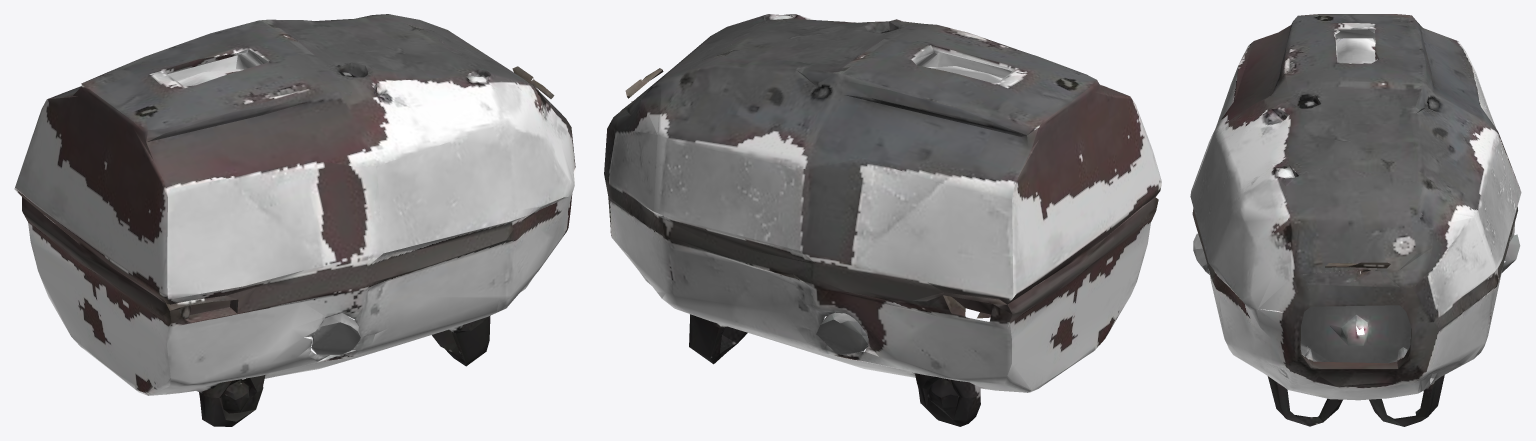
File: lens_drone.glb
3 views of the same model, side by side, from view 1: azimuth 30°, elevation 25°; view 2: azimuth 150°, elevation 25°; view 3: azimuth 270°, elevation 25° (orthographic). The views are drawn at different scales.
Parts seen in each view (by area): view 1: body, ring; view 2: body, ring; view 3: body, ring.
Part boxes in pixels (x1=…): body: x1=14, y1=14, x2=575, y2=399; ring: x1=82, y1=316, x2=490, y2=426; body: x1=604, y1=14, x2=1161, y2=397; ring: x1=689, y1=315, x2=1095, y2=426; body: x1=1190, y1=14, x2=1521, y2=400; ring: x1=1267, y1=375, x2=1444, y2=426.
Size of the model in its own units: 0.8652 by 0.5986 by 0.6209.
3 materials, 3 textured.
